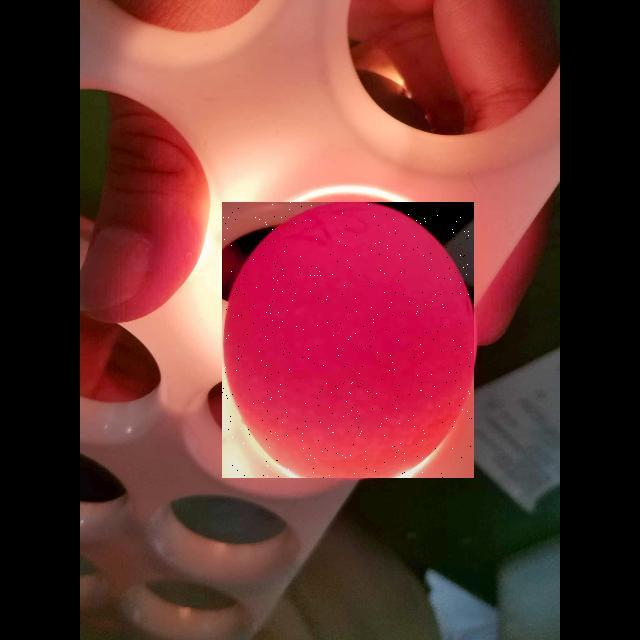Infertile: (222, 202, 474, 478)
